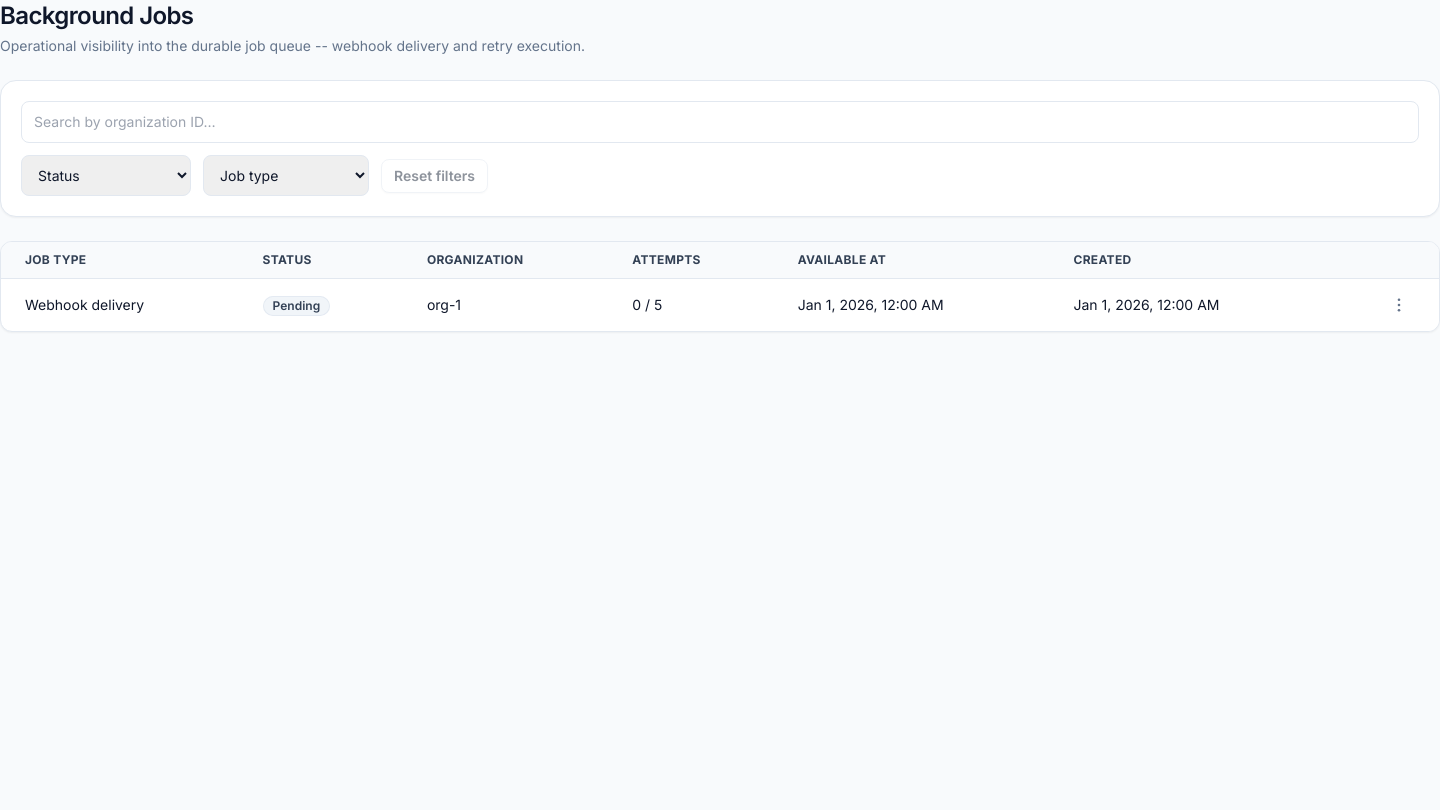
it: PlatformJobsPage › cancels a pending job after entering a reason
Click the button named "More actions": (1399, 305) [1383,289,1415,321]
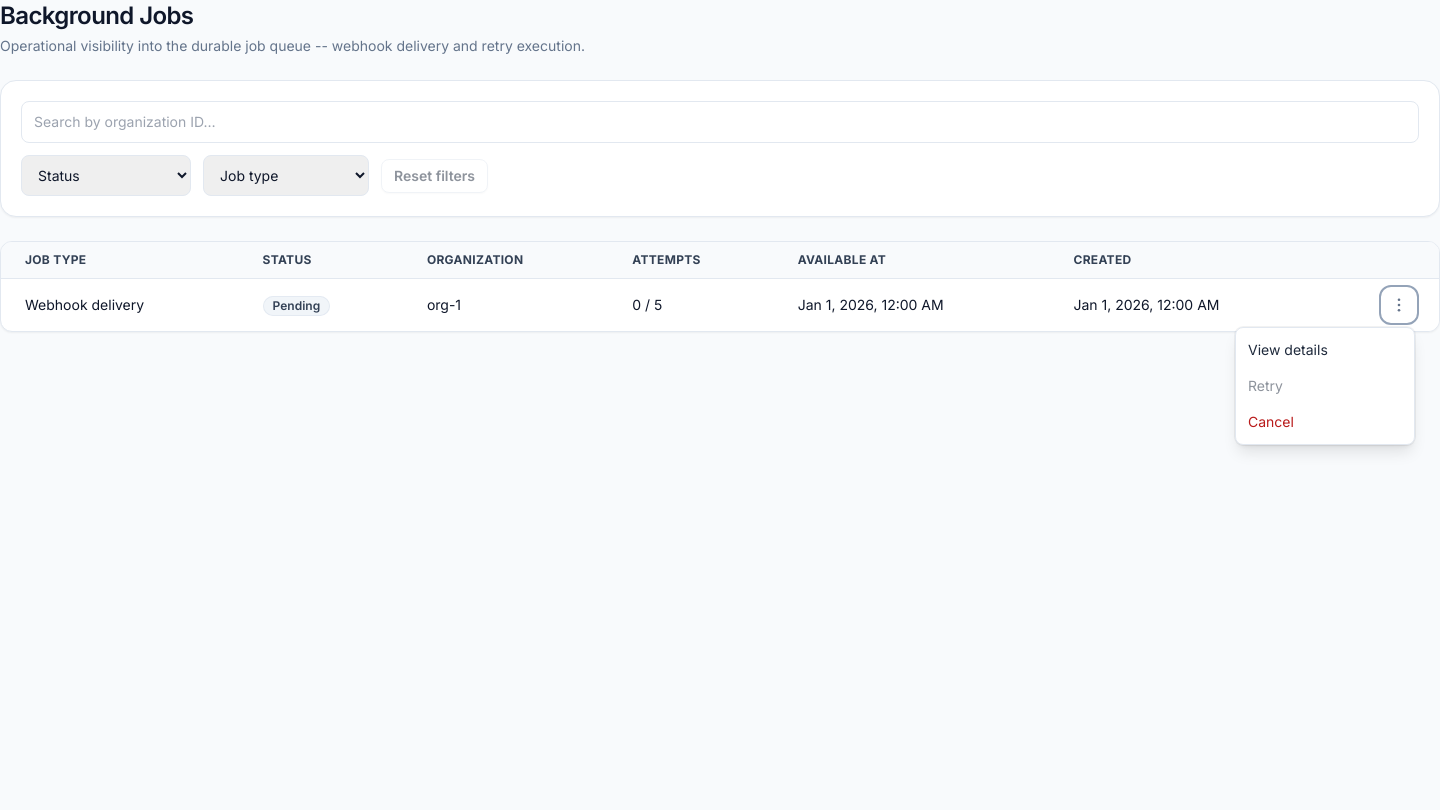
Click the menu item "Cancel": (1325, 422) [1236,404,1414,440]
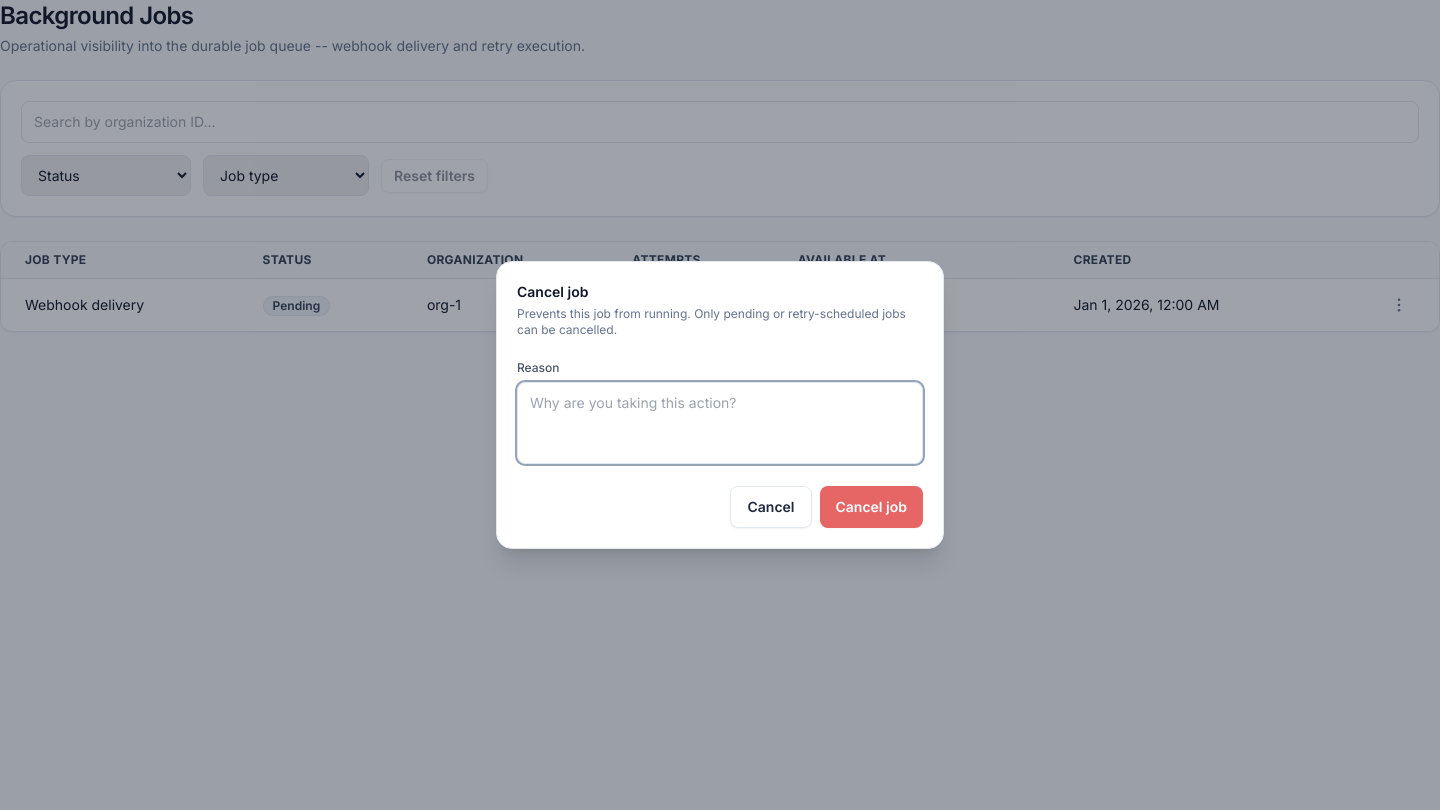
Expected: the heading "Cancel job" is shown, [517,283,588,300]
In the text box labelled "Reason": (720, 423) [517,382,923,464], type "Duplicate event"
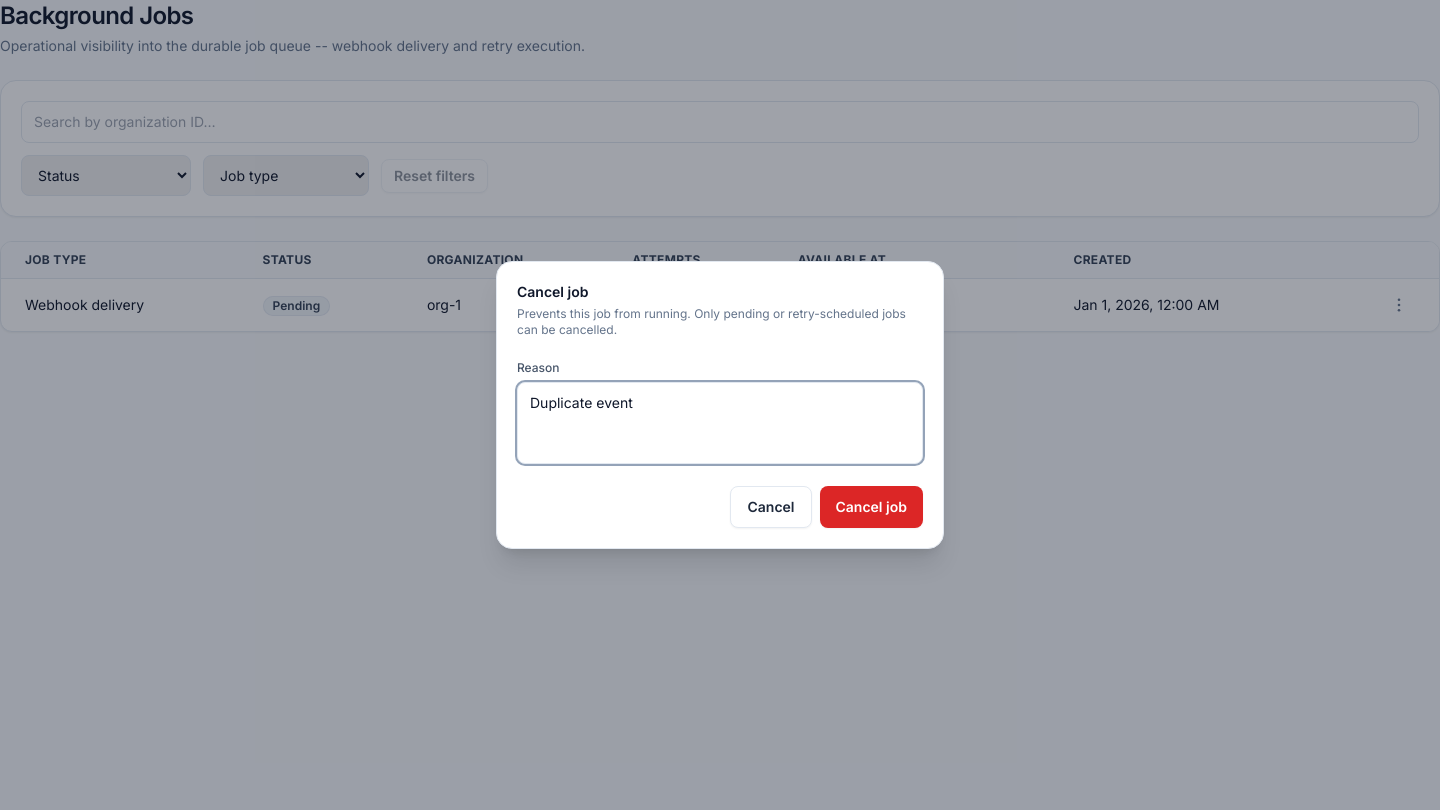
Click the button "Cancel job": (871, 507) [820,486,923,528]
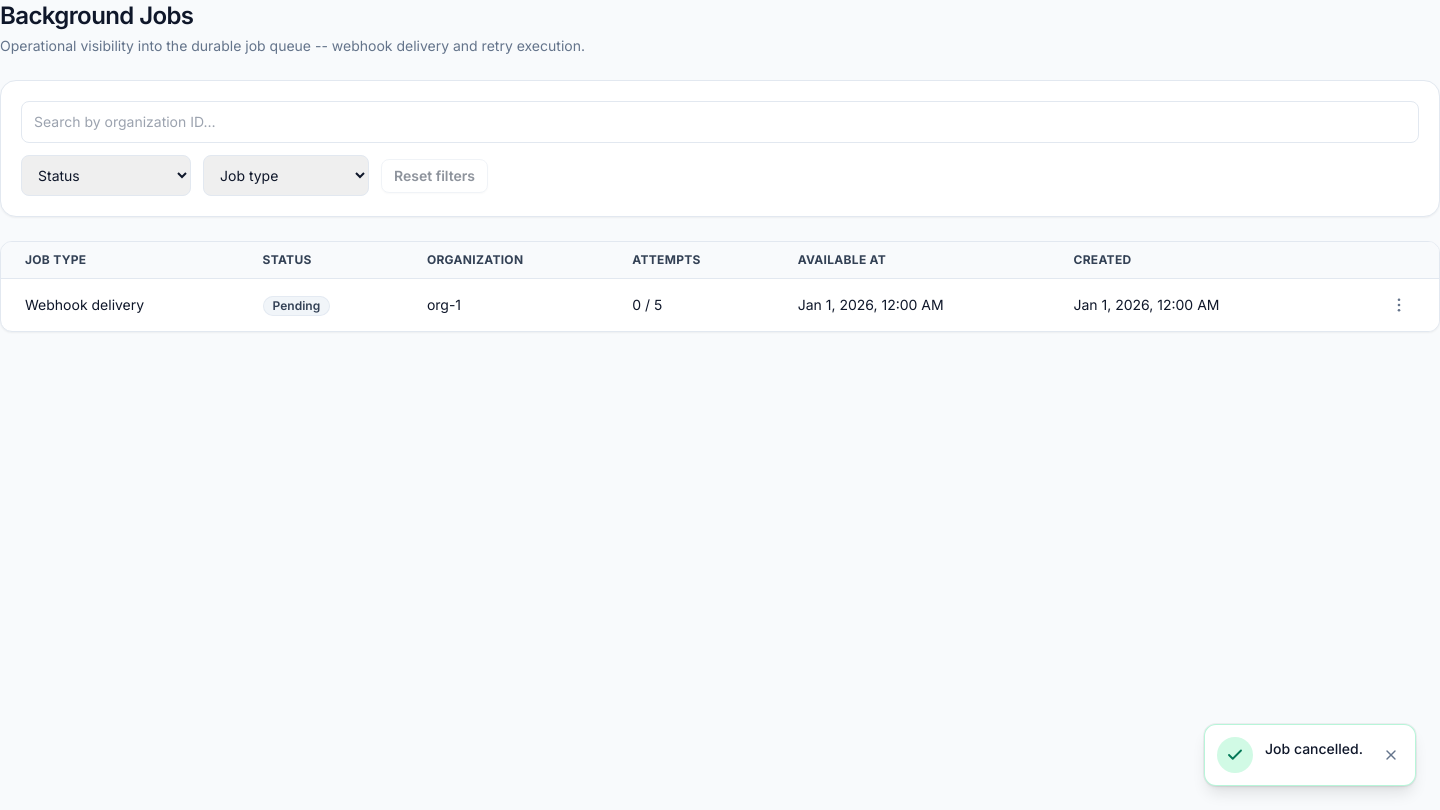
Expected: the dialog is gone
